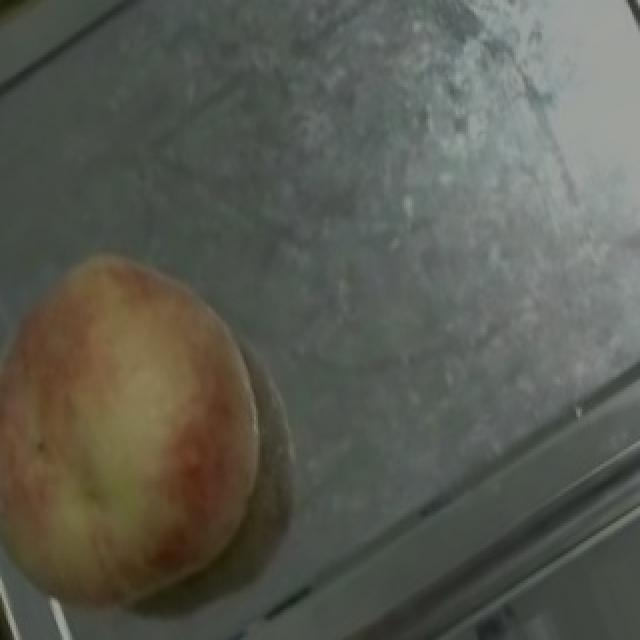Fruit: (0, 211, 304, 583)
